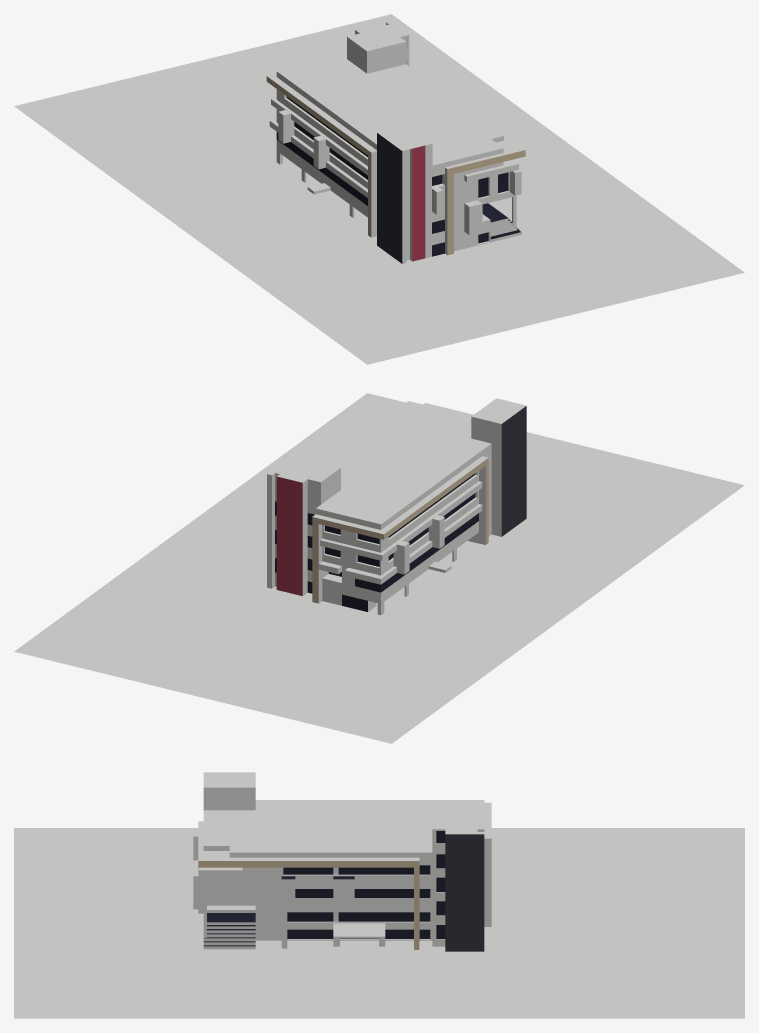
The model's file is GedungZeta.fbx.
3 renders of one model, top to bottom at view 1: azimuth 30°, elevation 25°; view 2: azimuth 150°, elevation 25°; view 3: azimuth 270°, elevation 25°, orthographic. The views are drawn at different scales.
Visible parts, largest first — view 1: Plane, Cube, Cube.002, Cube.001; view 2: Plane, Cube, Cube.002; view 3: Plane, Cube, Cube.001, Cube.002.
Boxes of the visible parts, x1,y1,x2,y2 form: Plane: [14, 14, 744, 364]; Cube: [269, 21, 521, 263]; Cube.002: [266, 73, 376, 237]; Cube.001: [417, 72, 525, 255]; Plane: [14, 393, 744, 743]; Cube: [267, 398, 526, 615]; Cube.002: [312, 456, 488, 603]; Plane: [14, 828, 744, 1018]; Cube: [193, 772, 484, 951]; Cube.001: [198, 821, 419, 949]; Cube.002: [484, 802, 491, 926].
Size of the model in its own units: 17374 by 5220 by 28149.
